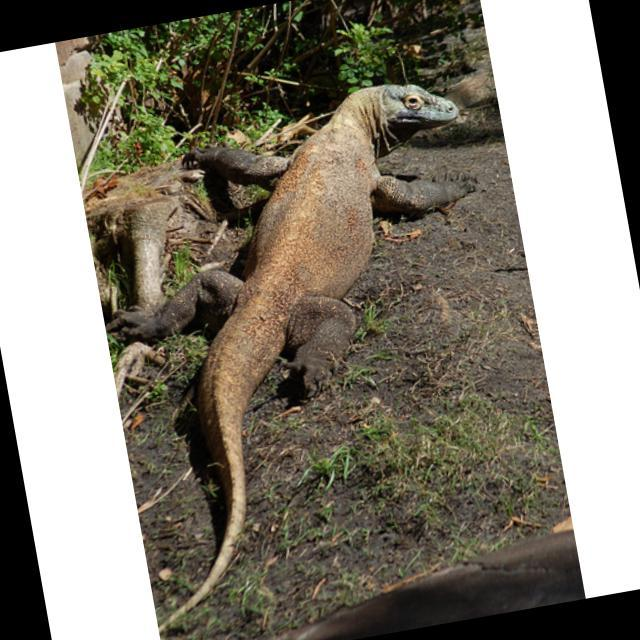KomodoDragon: (76, 68, 549, 640)
